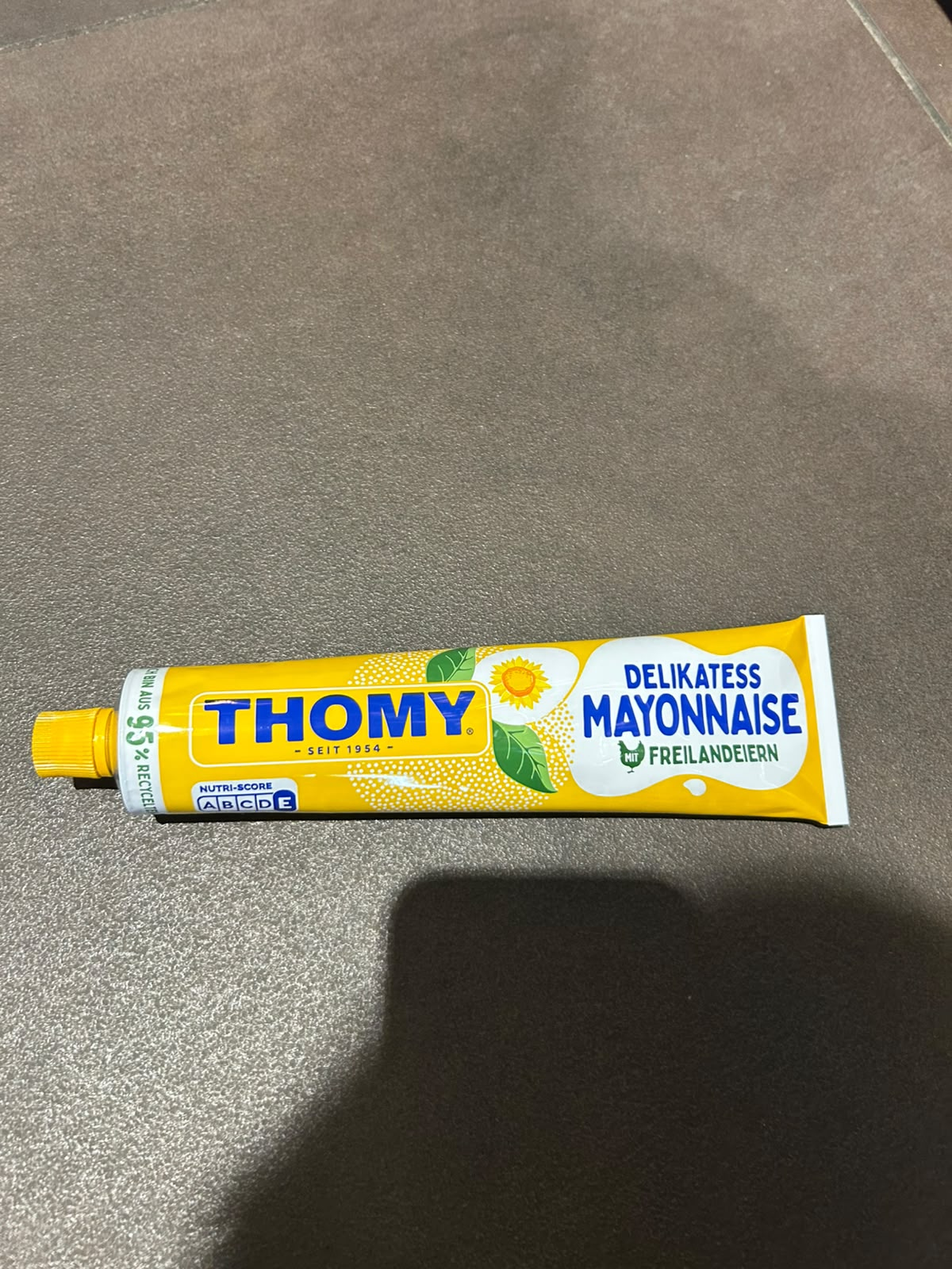tube: (24, 608, 871, 838)
